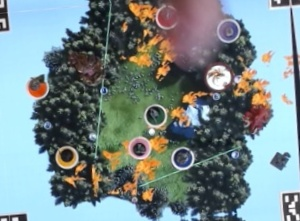blue: (169, 143, 197, 170)
green: (141, 100, 171, 128)
orange: (23, 73, 51, 100)
pink: (125, 135, 156, 160)
red: (151, 1, 183, 31)
violet: (215, 16, 244, 43)
yellow: (51, 142, 80, 171)
